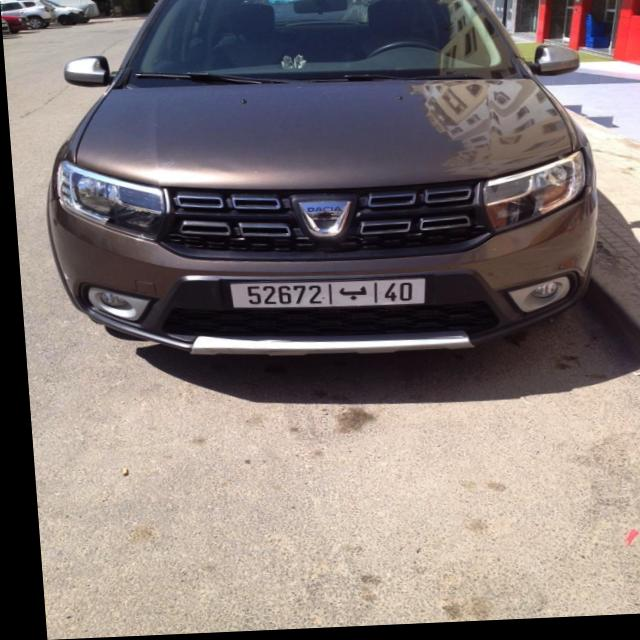License-Plate: (225, 281, 421, 311)
